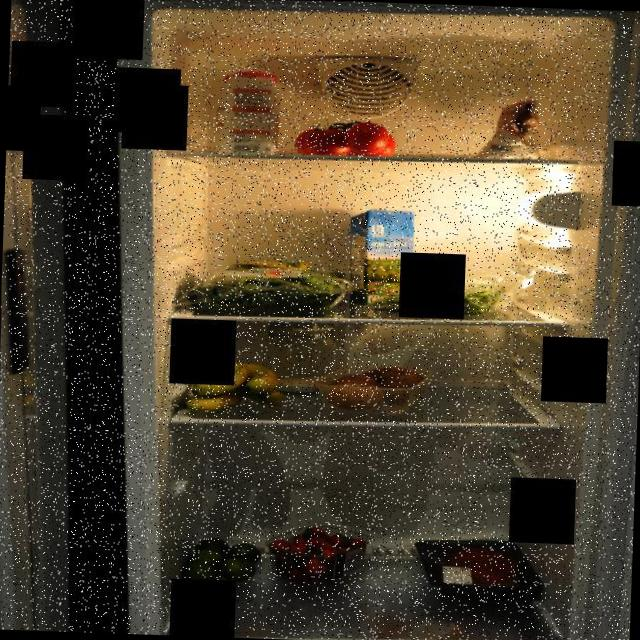Carne vacuno: (412, 535, 544, 603)
Leche: (344, 206, 419, 306)
Patata: (306, 350, 431, 414)
Plátano: (178, 357, 286, 416)
Tomate: (293, 116, 400, 162)
flour: (464, 90, 550, 164), (267, 320, 344, 398)
green_beans: (353, 274, 519, 324)
spinach: (180, 256, 352, 317)
strawberries: (263, 518, 374, 586)
sugar: (212, 68, 282, 155)
